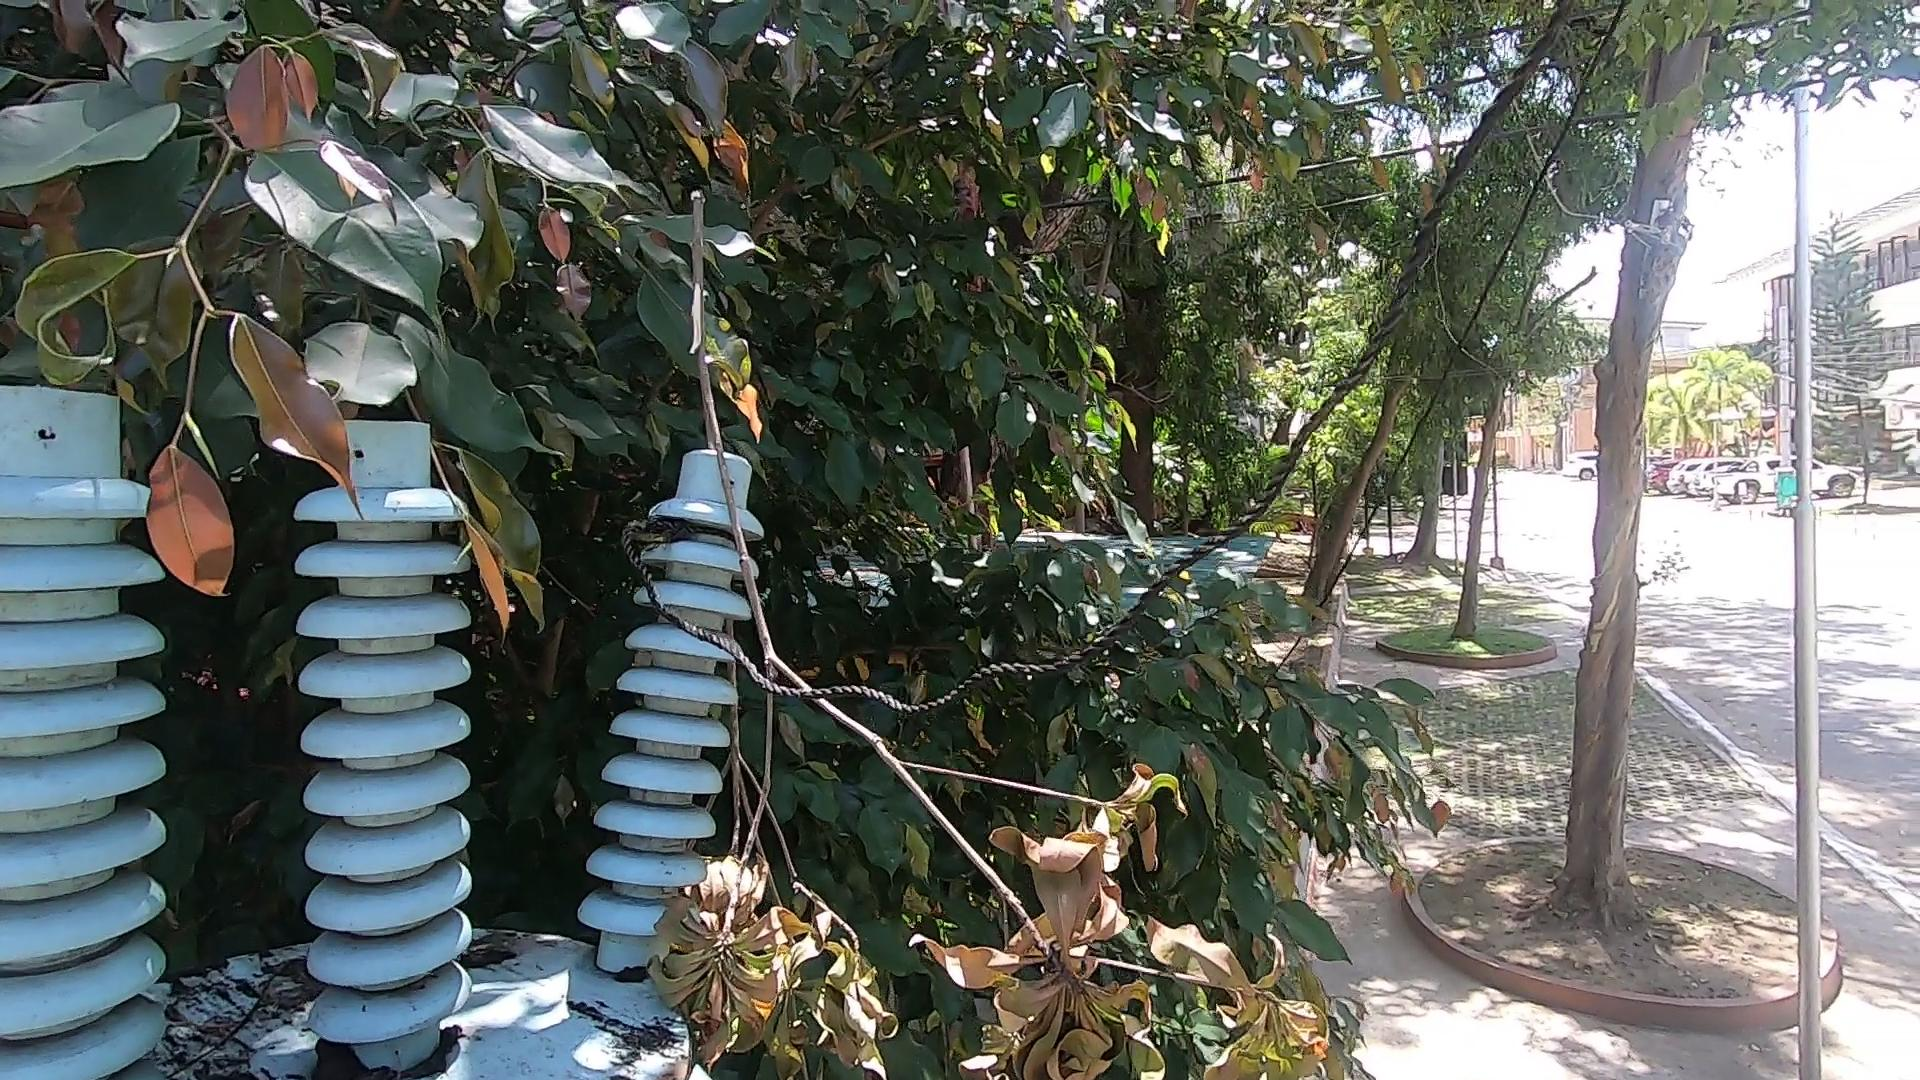branch with leaves: (675, 170, 1338, 1080)
leaf: (404, 1025, 473, 1069), (305, 1040, 381, 1073)
tree branch: (169, 965, 282, 1080)
